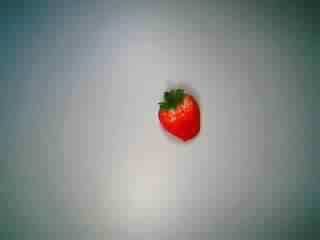strawberry: (137, 85, 210, 149)
